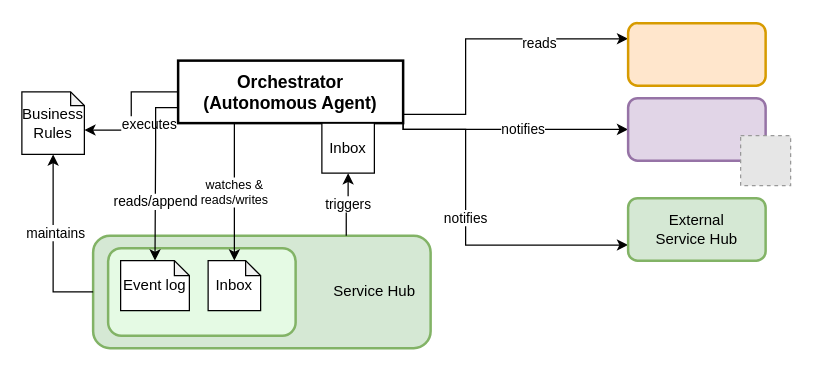
Image size: 813x370. Some labels were removed from this diagram. Grey dashed boxes stand in for pictures. Here are the shapes that lost their labels. From the top down, the box of each, then its label:
(626, 21, 766, 86): Web service
(626, 96, 766, 161): Data Pod
(106, 246, 296, 336): Writable zone for orchestrator
